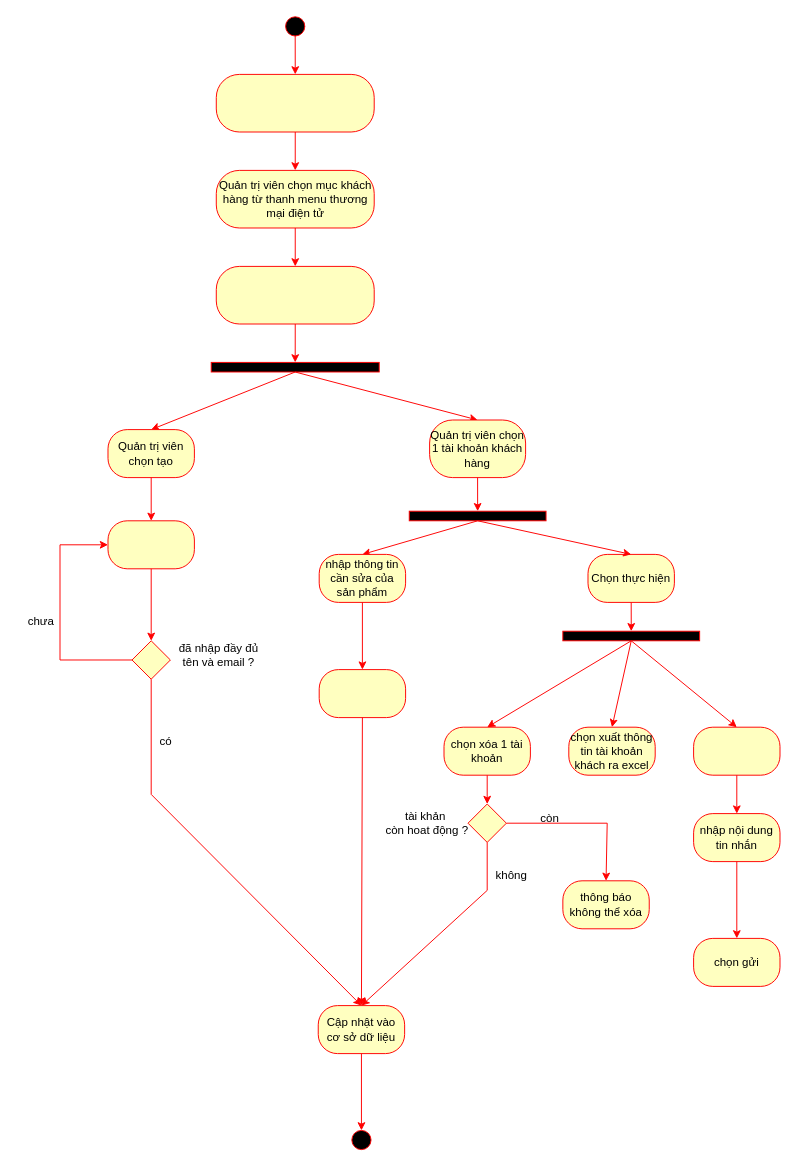
This 797x1166 diagram has some shape labels left out. Each missing label, with the centre of its shape:
"chọn gửi email" goes at (x=736, y=750).
"chọn tạo" goes at (x=362, y=693).
"Hệ thống hiện tất cả tài khoản khách hàng" goes at (x=294, y=294).
"Nhập các thông tin tài khoản" goes at (x=150, y=544).
"Đăng nhập trang chủ với quyền quản trị" goes at (x=294, y=102).
